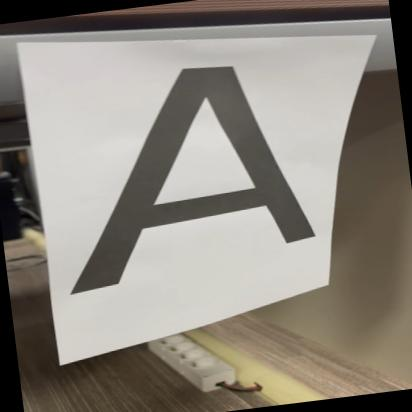seat: (35, 34, 325, 295)
